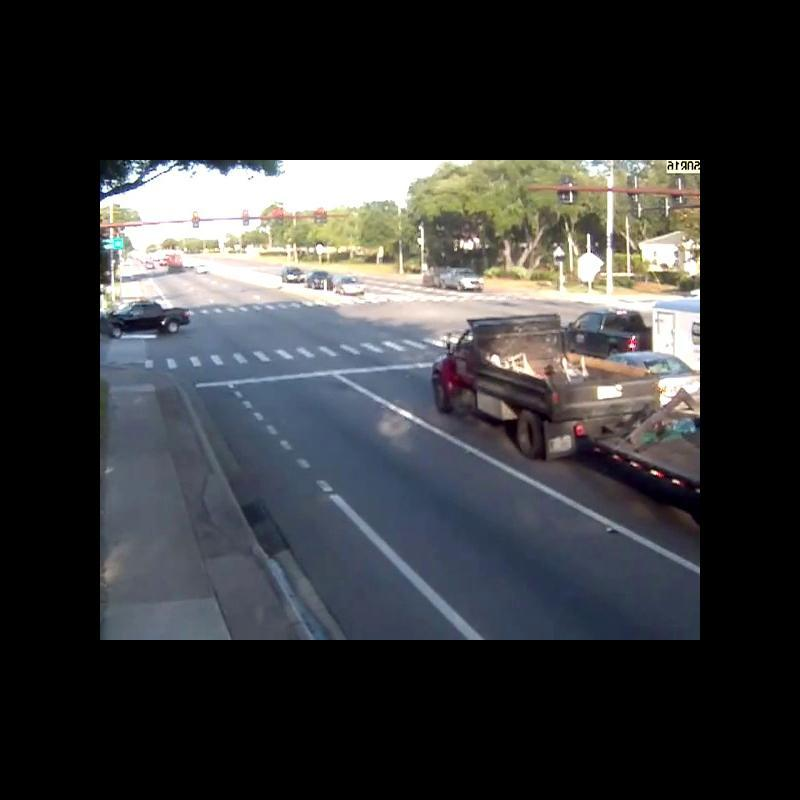car: (566, 308, 653, 353), (100, 297, 188, 336), (652, 302, 700, 352), (424, 268, 486, 290), (335, 274, 368, 300), (164, 254, 192, 276), (306, 271, 331, 292), (280, 263, 304, 284), (196, 262, 211, 278), (143, 260, 158, 268)
truck: (426, 315, 665, 456)
